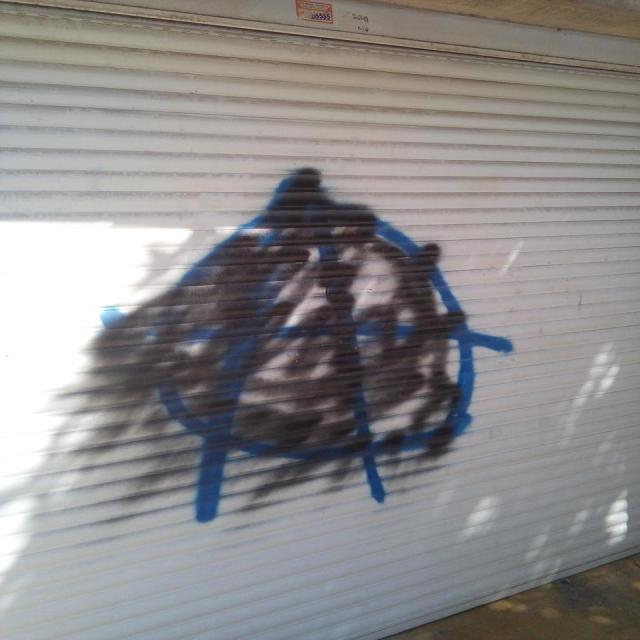nonspitting: (74, 164, 516, 525)
